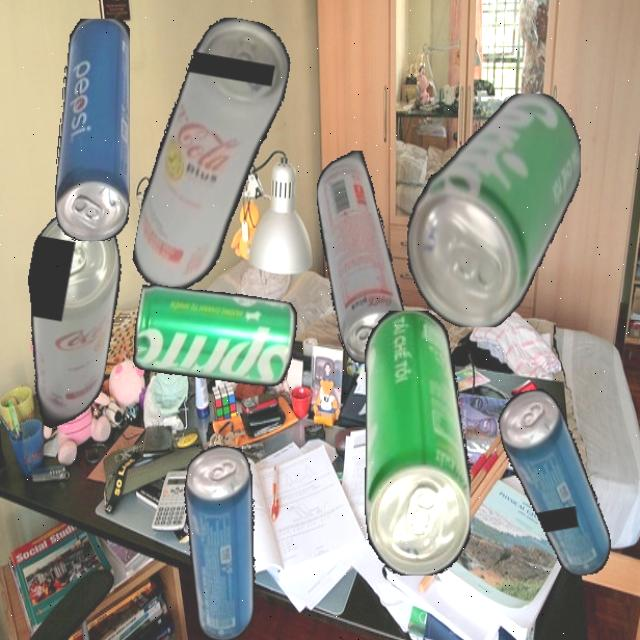debris: (129, 8, 296, 302), (406, 92, 581, 328), (3, 204, 131, 440), (364, 310, 471, 576), (495, 381, 615, 585), (160, 440, 280, 640), (129, 277, 300, 395), (316, 150, 405, 363), (54, 18, 130, 241)
